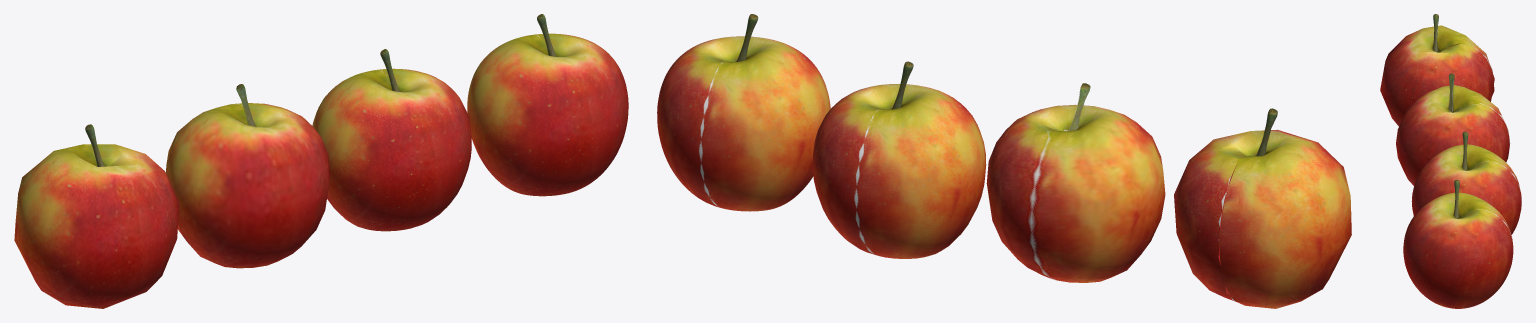
The model's file is apple-lod.glb.
3 views of the same model, side by side, from view 1: azimuth 30°, elevation 25°; view 2: azimuth 150°, elevation 25°; view 3: azimuth 270°, elevation 25° (orthographic). The views are drawn at different scales.
Parts seen in each view (by area): view 1: apple4, apple3, apple1, apple2; view 2: apple3, apple4, apple2, apple1; view 3: apple1, apple4, apple3, apple2.
Boxes of the visible parts, x1=… form: apple4: x1=14, y1=124, x2=179, y2=308; apple3: x1=165, y1=84, x2=330, y2=268; apple1: x1=467, y1=14, x2=628, y2=196; apple2: x1=312, y1=49, x2=471, y2=231; apple3: x1=986, y1=83, x2=1165, y2=282; apple4: x1=1174, y1=108, x2=1351, y2=308; apple2: x1=812, y1=61, x2=986, y2=258; apple1: x1=657, y1=14, x2=830, y2=211; apple1: x1=1403, y1=180, x2=1513, y2=308; apple4: x1=1380, y1=14, x2=1494, y2=126; apple3: x1=1396, y1=73, x2=1510, y2=185; apple2: x1=1411, y1=131, x2=1521, y2=234.
Bounding box in the file's own units: 0.4786 × 0.1428 × 0.141.
Materials: 4 (4 with a texture image).
